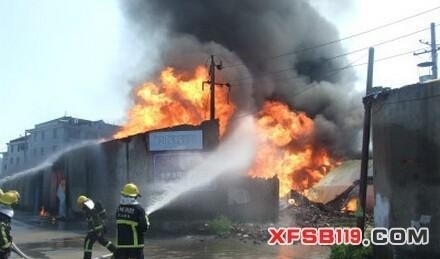fire: (247, 100, 352, 206), (110, 63, 235, 137)
